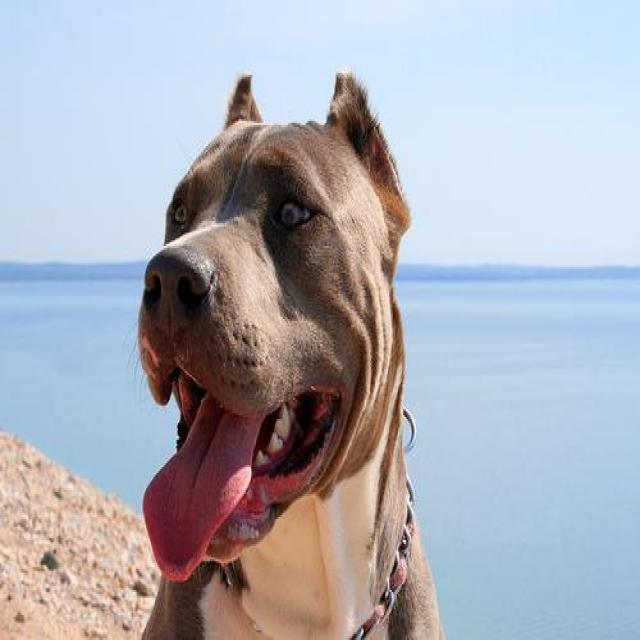adult_dog: (139, 68, 448, 639)
